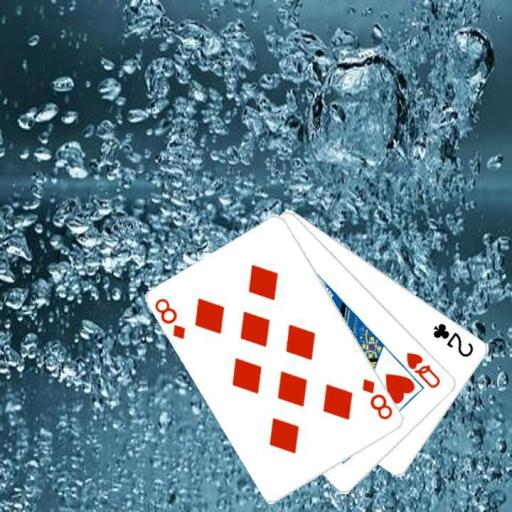2C: (430, 319, 476, 359)
8D: (151, 295, 188, 342), (359, 376, 395, 422)
QH: (404, 349, 443, 390)
